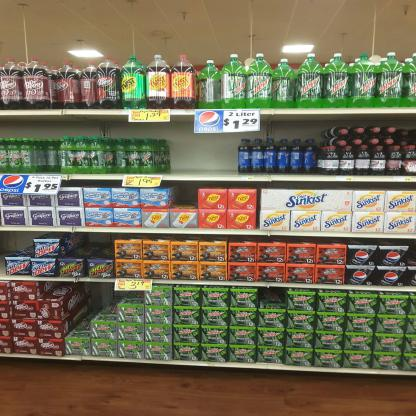Void: (168, 139, 237, 170), (263, 119, 318, 139), (68, 282, 90, 332), (67, 235, 111, 258), (96, 282, 115, 320), (7, 233, 35, 254), (172, 187, 197, 208), (259, 290, 284, 303), (45, 279, 63, 294), (120, 292, 143, 302)
